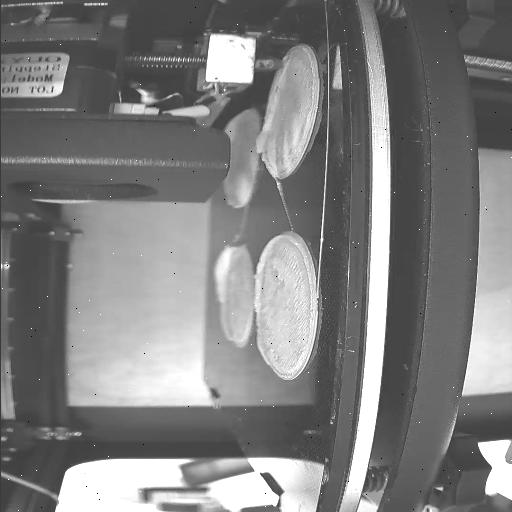over_extrusion: (250, 234, 314, 314), (248, 64, 288, 154), (209, 241, 239, 305), (250, 329, 270, 367), (216, 307, 232, 342)
